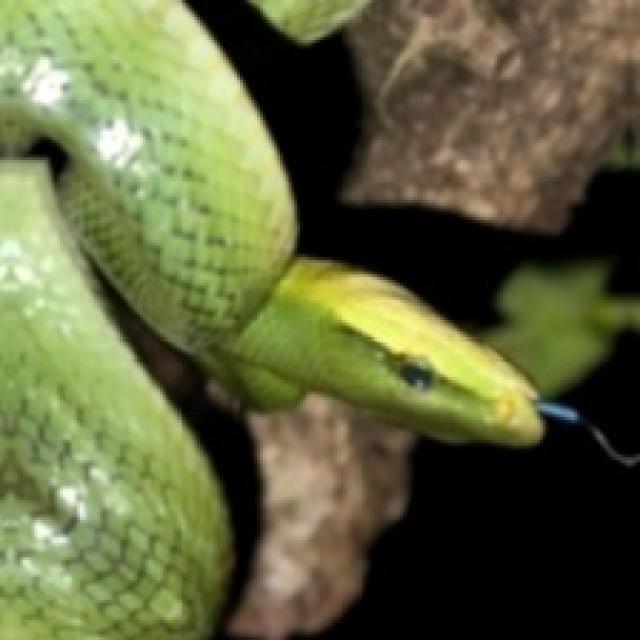red-tailed green ratsnake: (0, 0, 534, 440), (0, 160, 230, 639)
